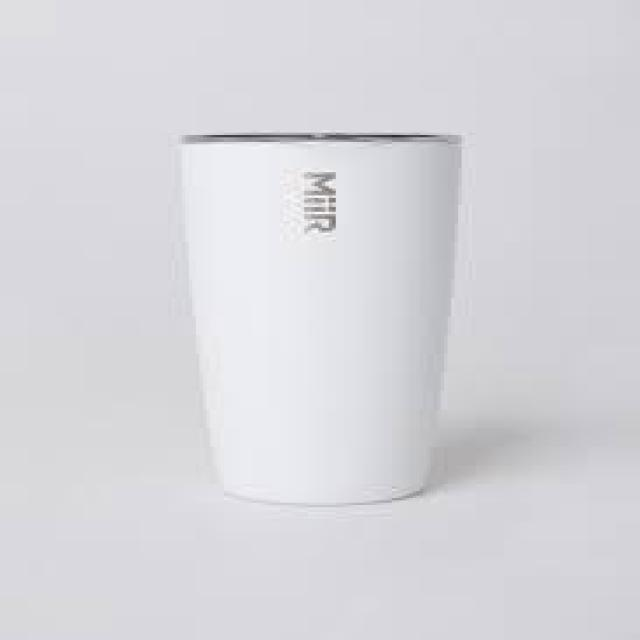bottle: (171, 128, 462, 512)
